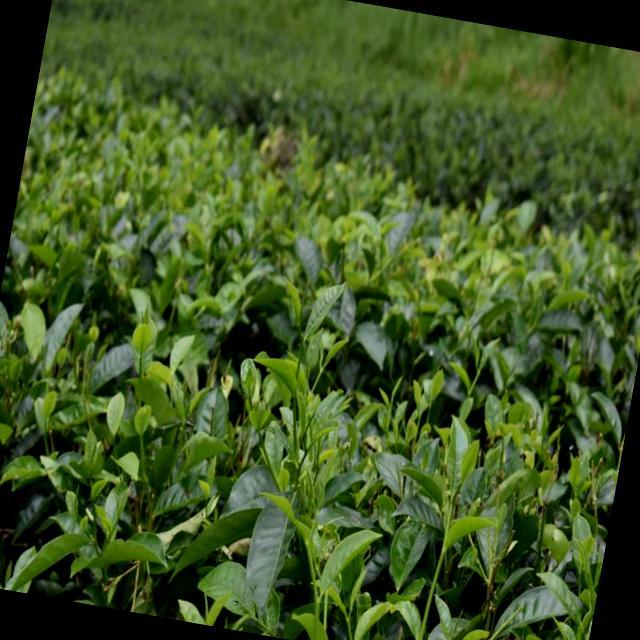Stem: (441, 552, 445, 557), (319, 370, 323, 374)
